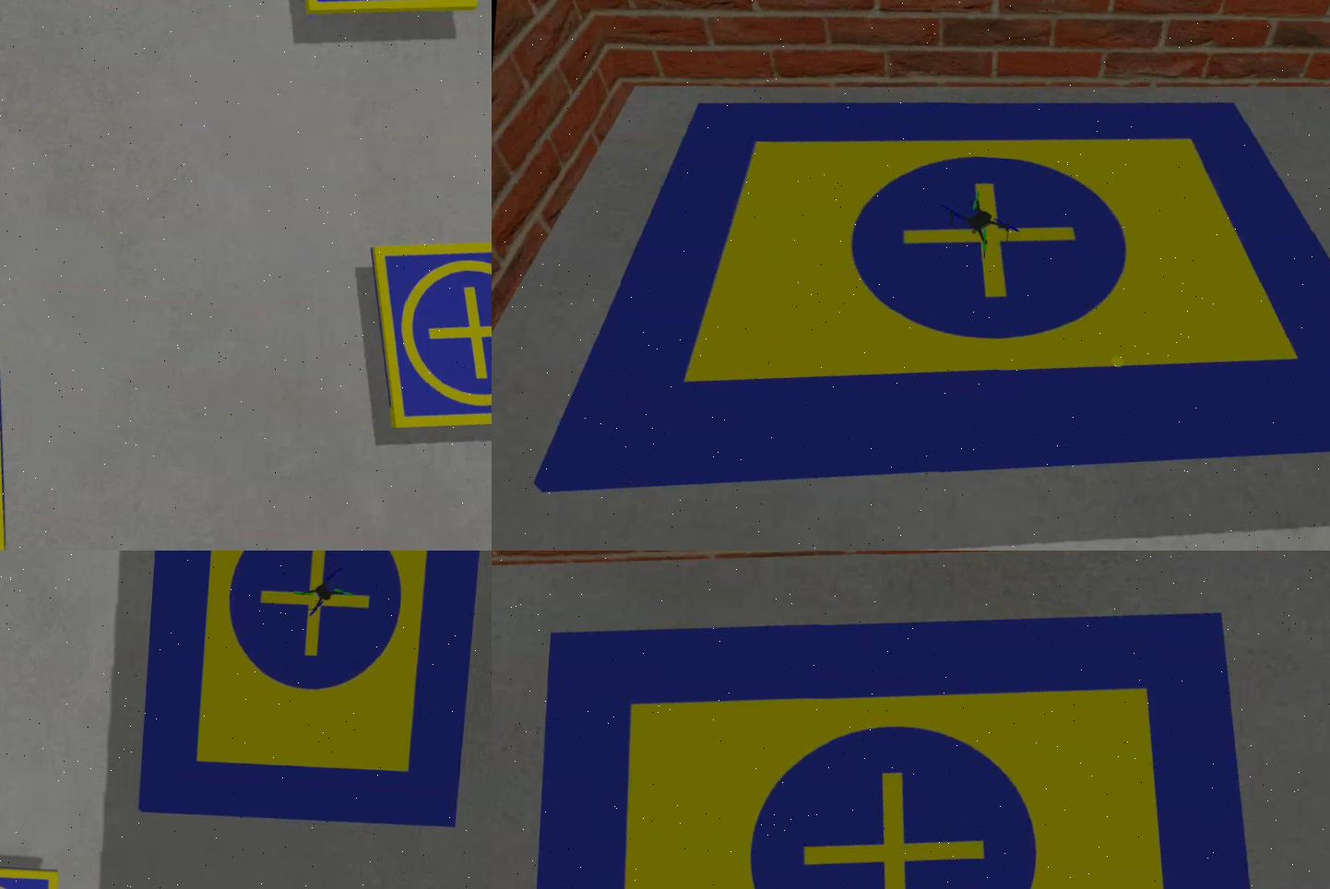large_base: (532, 47, 1330, 551), (512, 561, 1308, 889), (135, 551, 493, 835)
small_base: (360, 226, 493, 452), (281, 1, 491, 32)
